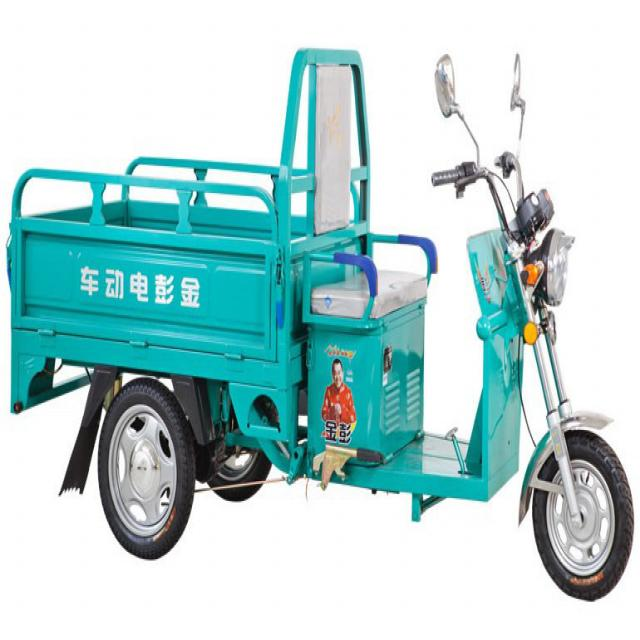tricycle: (4, 44, 634, 597)
